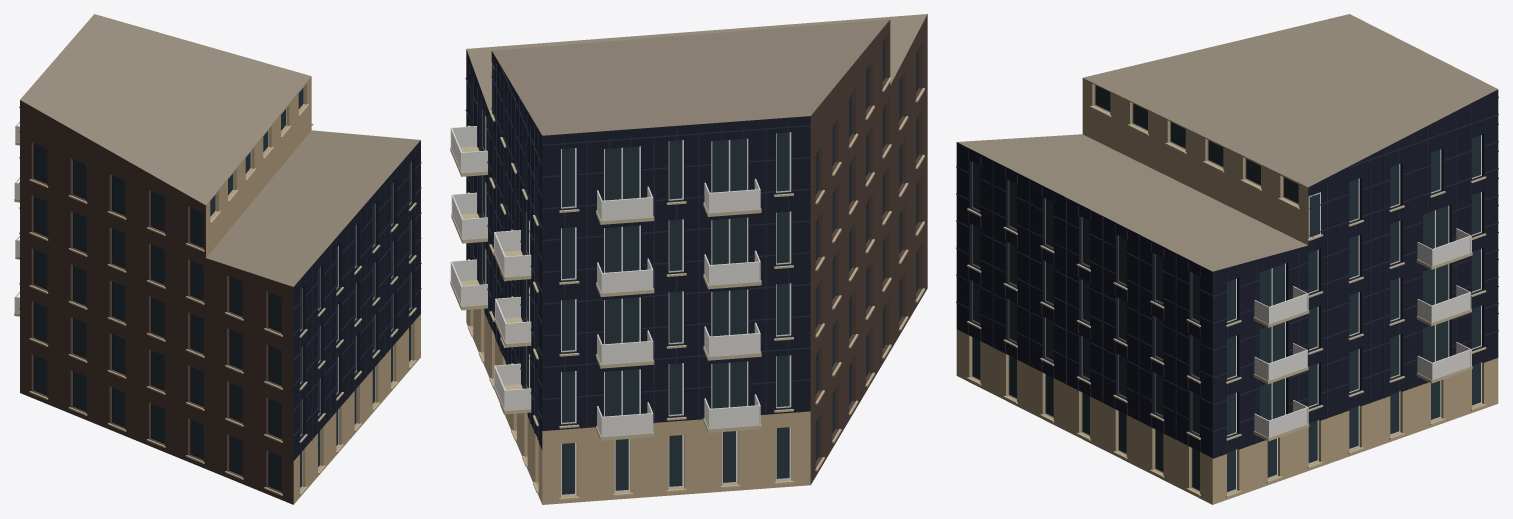
Rendered from recipe-large-wiborgeiland-247676.glb.
3 views of the same model, side by side, from view 1: azimuth 30°, elevation 25°; view 2: azimuth 150°, elevation 25°; view 3: azimuth 270°, elevation 25° (orthographic). The views are drawn at different scales.
Visible parts, largest first — view 1: wiborgeiland-247676; view 2: wiborgeiland-247676; view 3: wiborgeiland-247676.
Part boxes in pixels (x1,y1,x2,y2): wiborgeiland-247676: [14, 14, 421, 504]; wiborgeiland-247676: [450, 14, 927, 504]; wiborgeiland-247676: [956, 14, 1498, 504].
Bounding box in the file's own units: 22.45 × 18.61 × 29.11.
